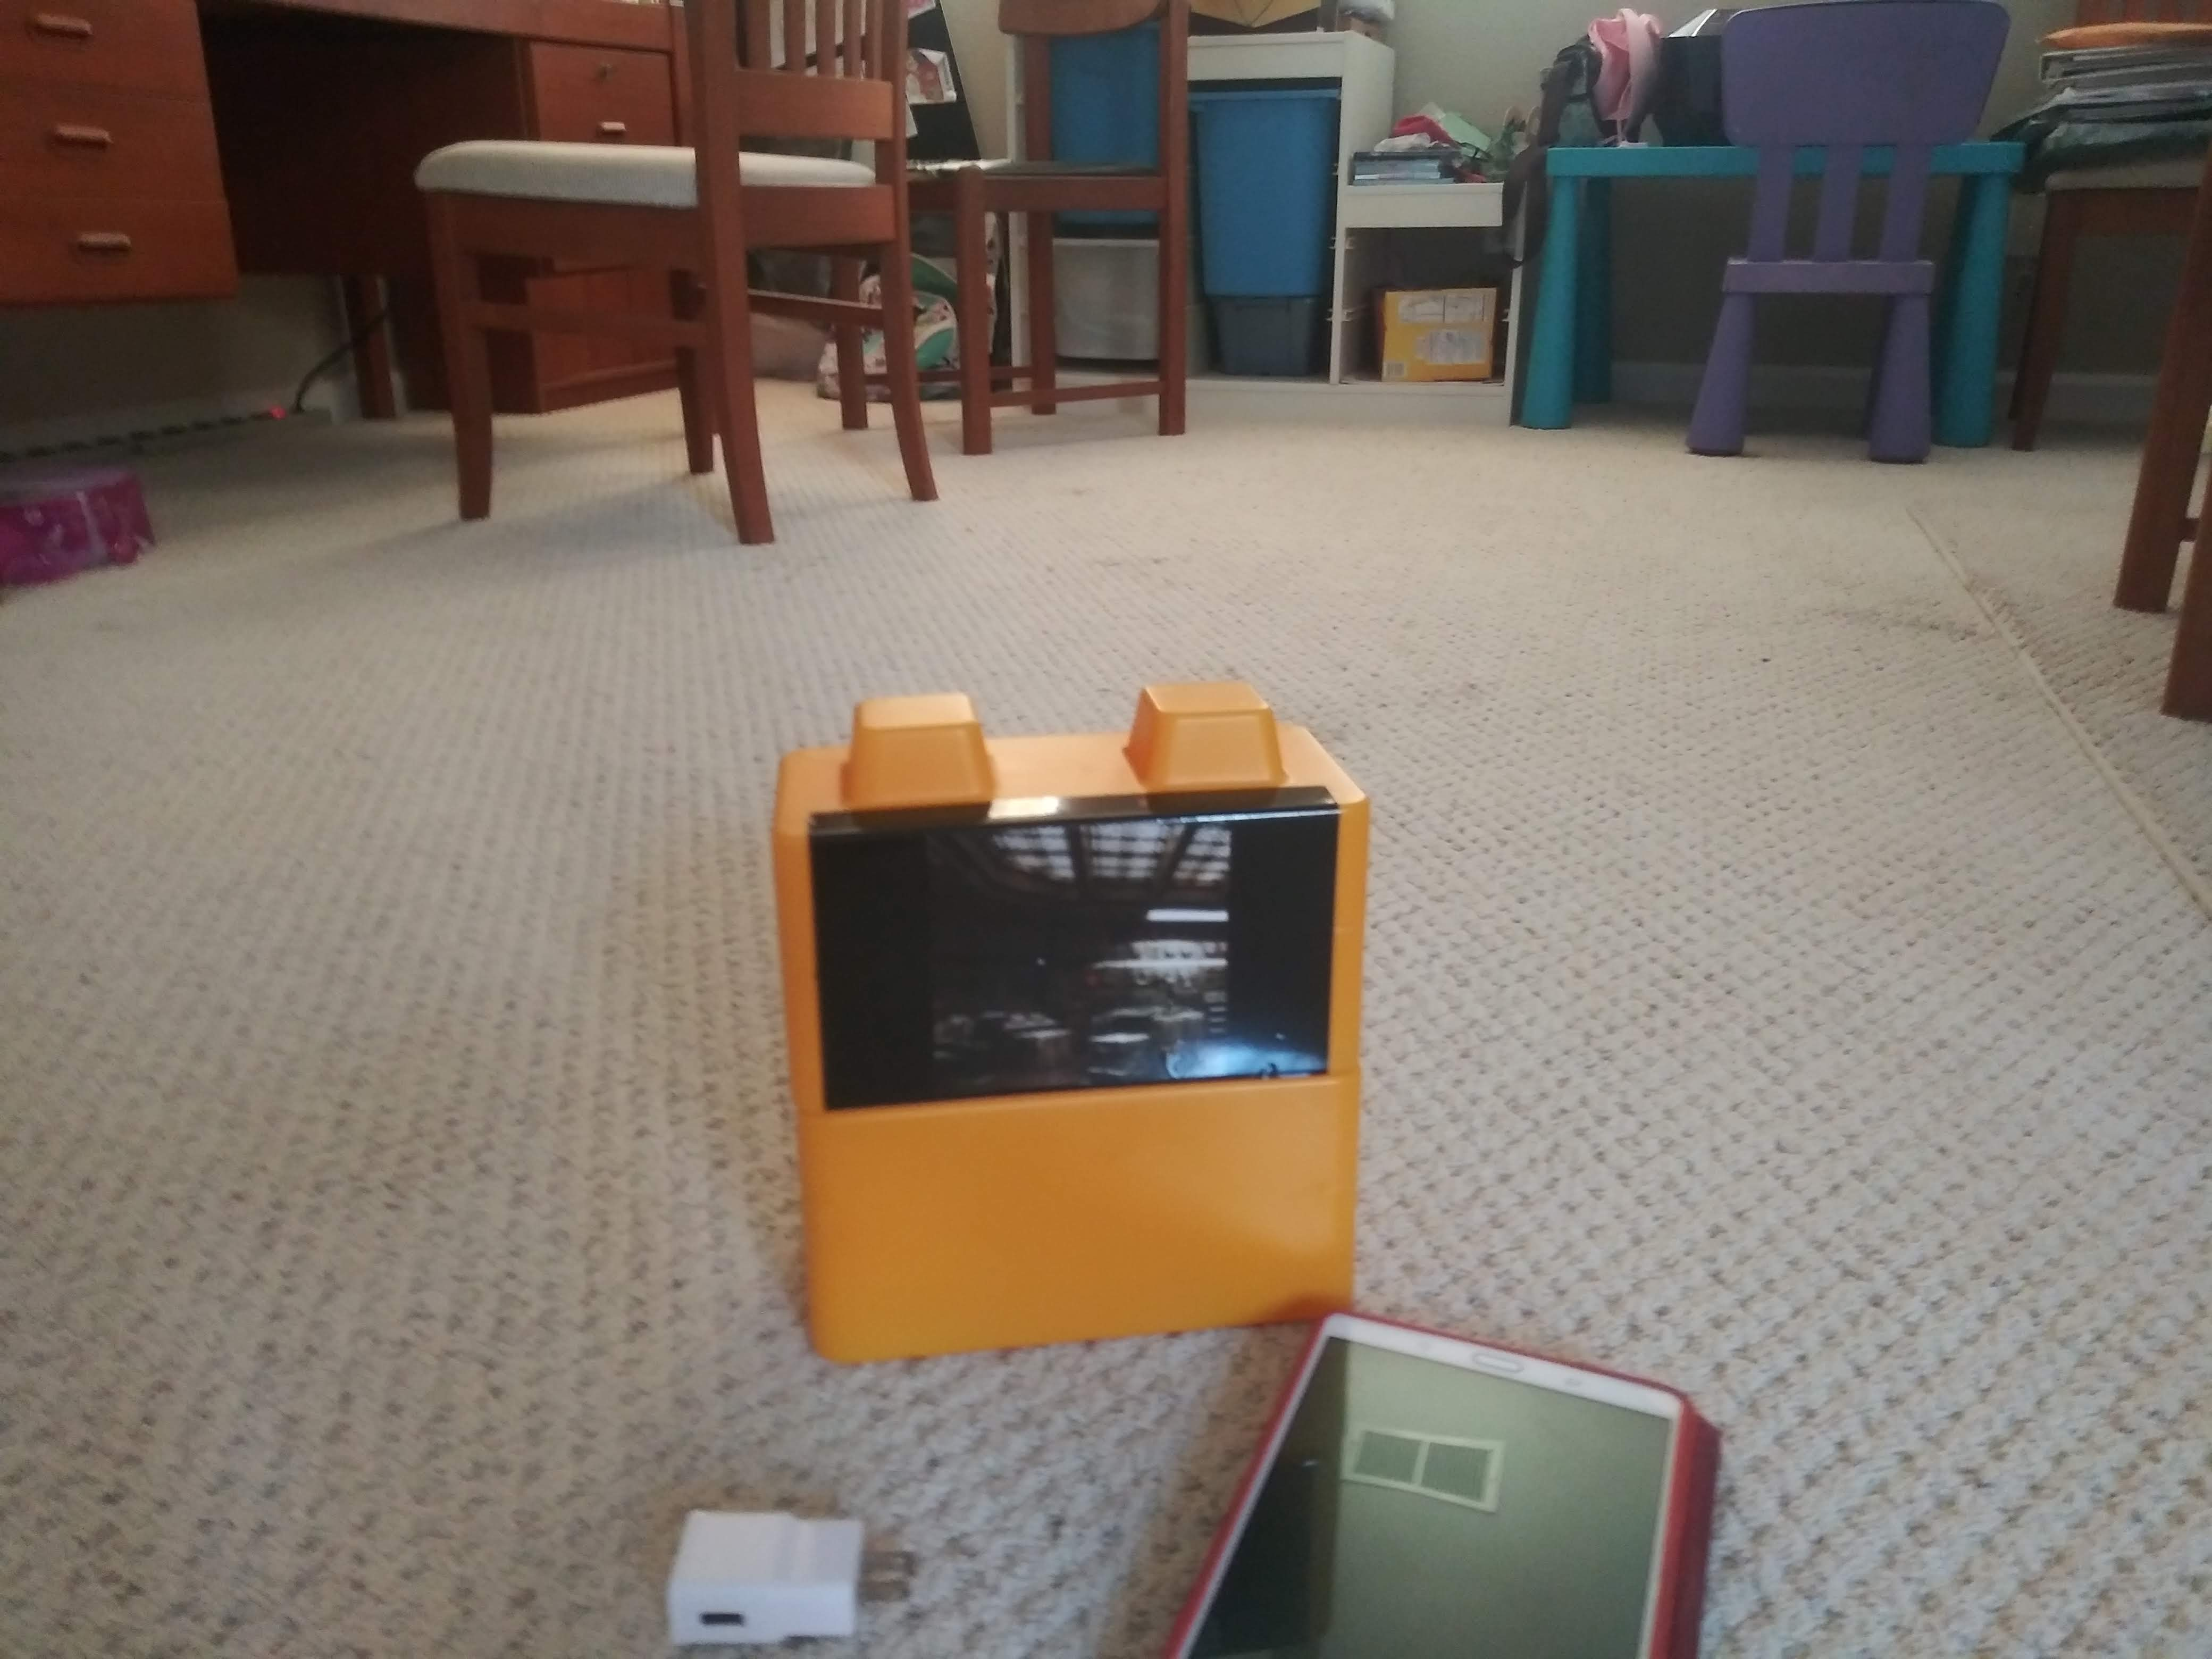skystone: (784, 741, 1372, 1086)
stone: (780, 1108, 1360, 1338)
